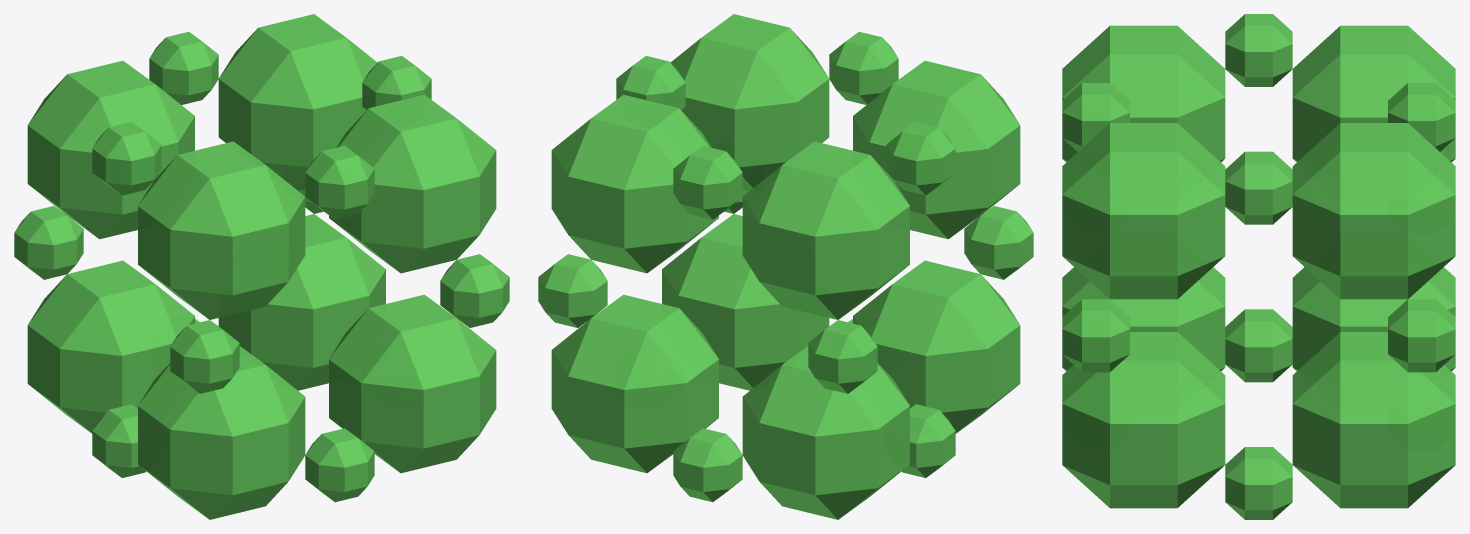
The model's file is fractalrhombicuboctahedron3-1.glb.
3 renders of one model, left to right at view 1: azimuth 30°, elevation 25°; view 2: azimuth 150°, elevation 25°; view 3: azimuth 270°, elevation 25°, orthographic. The views are drawn at different scales.
Bounding box in the file's own units: 7.21 × 7.21 × 7.21.
